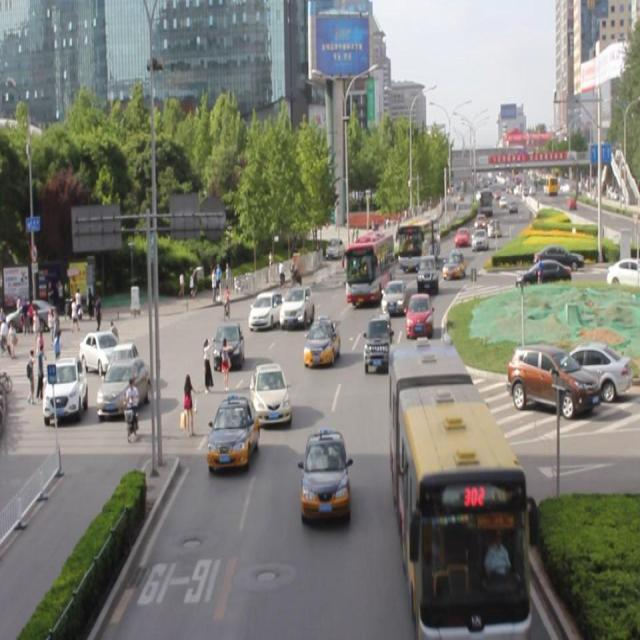car: (301, 432, 349, 522), (208, 396, 257, 470), (395, 371, 439, 448), (250, 364, 290, 424), (302, 318, 339, 368), (362, 314, 392, 370), (278, 280, 313, 327), (214, 320, 243, 370), (404, 293, 432, 339), (248, 288, 281, 326), (416, 256, 438, 294), (382, 280, 405, 315), (442, 250, 464, 279)
van: (387, 343, 528, 640), (345, 232, 392, 306), (399, 217, 438, 269)
